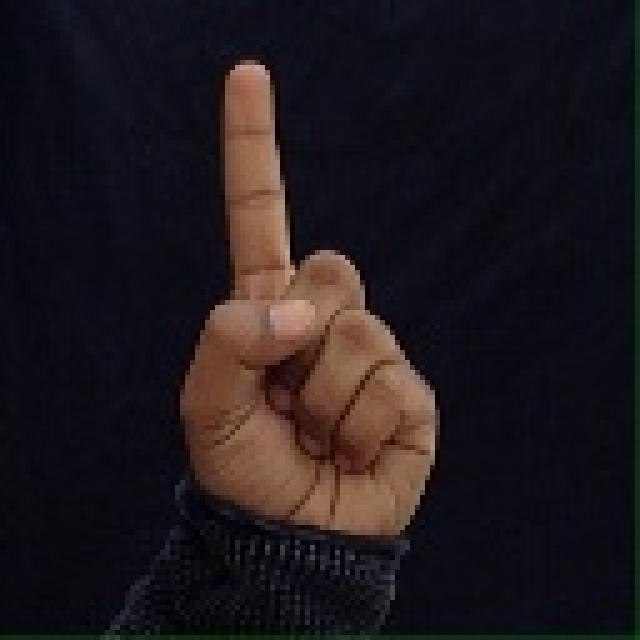Numeric-1: (187, 59, 440, 557)
